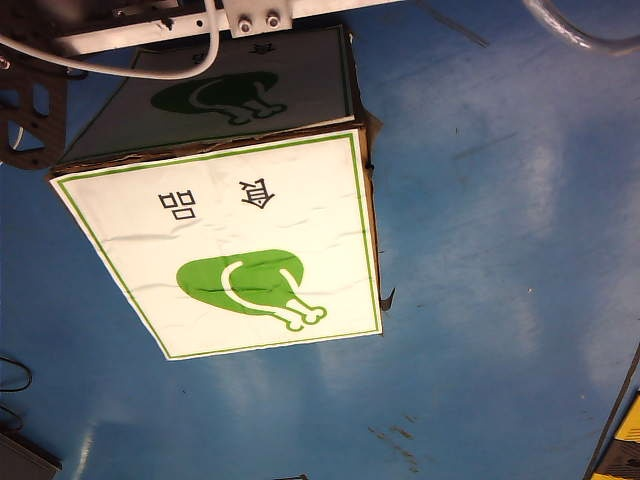Cube_food: (149, 171, 362, 338)
